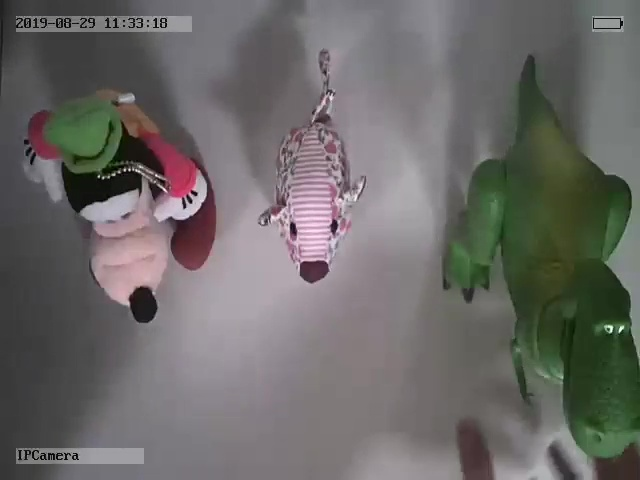goofy: (23, 85, 217, 324)
pig: (257, 49, 366, 284)
rex: (438, 51, 640, 461)
